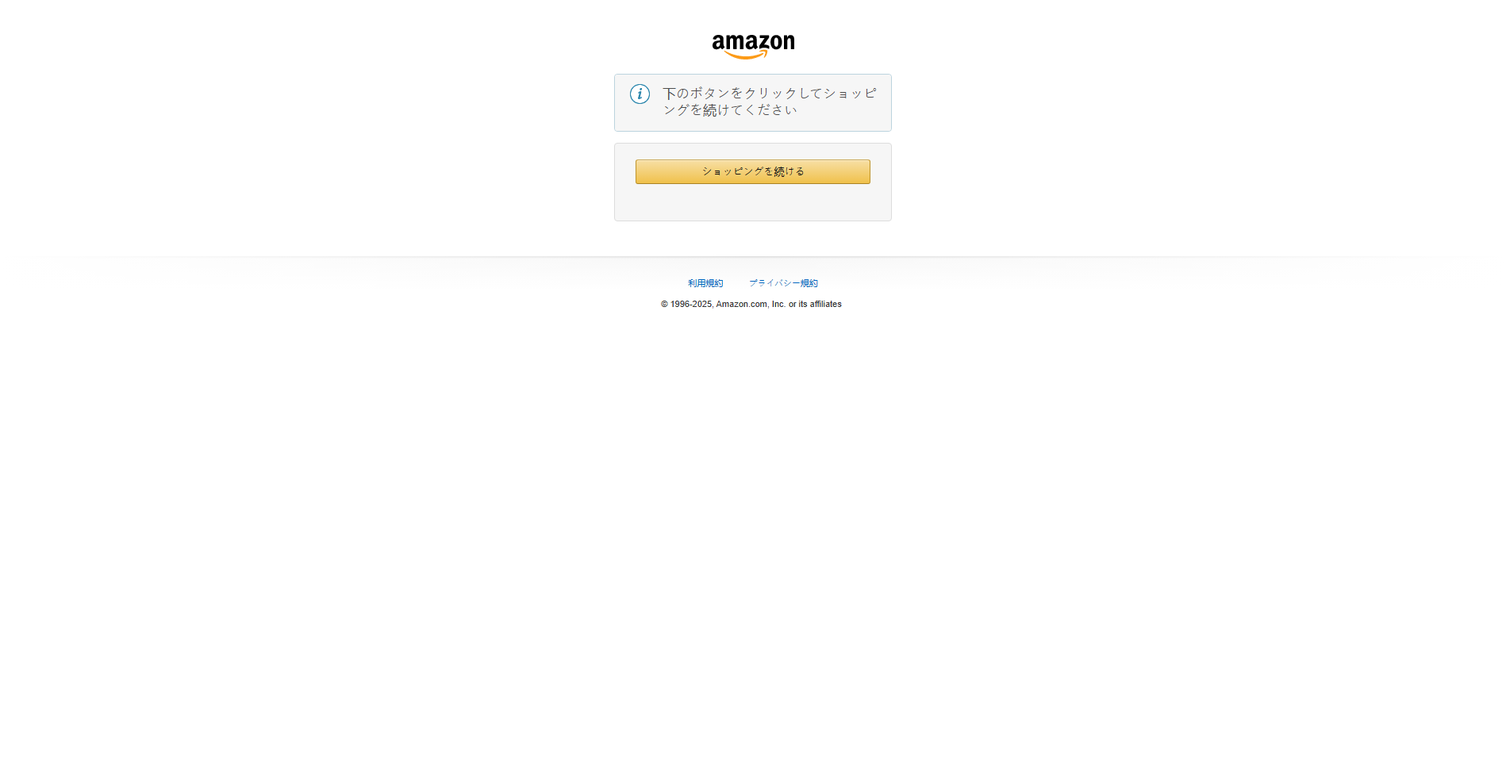button: (749, 278, 818, 288), (688, 278, 723, 288)
link: (636, 159, 870, 184), (636, 160, 870, 183)
toggle: (844, 297, 845, 298)
